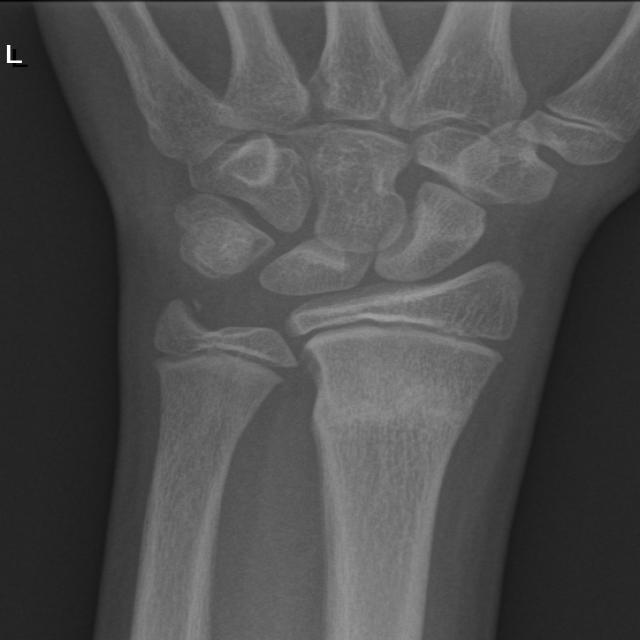radius fracture: (283, 358, 493, 488)
